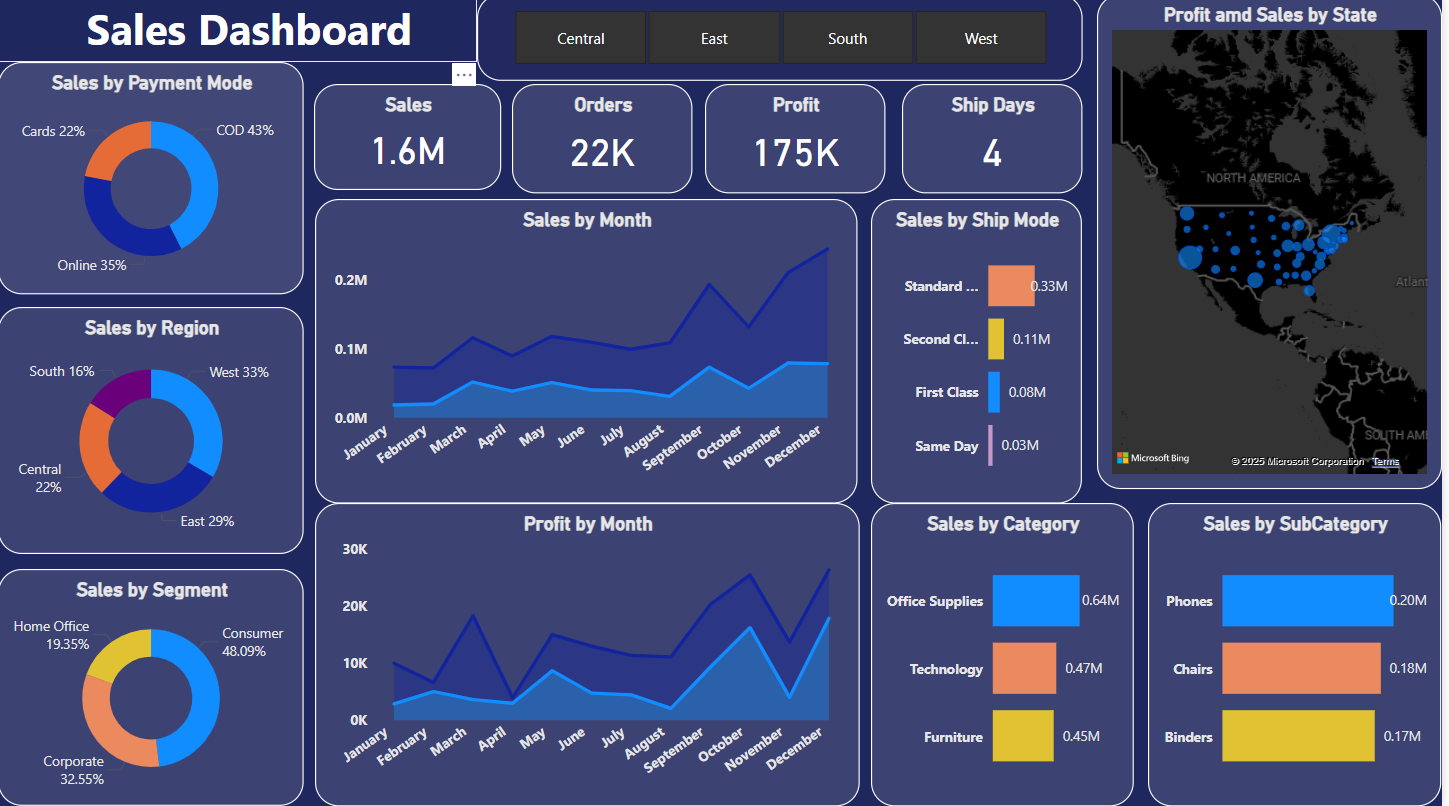

What the dashboard file says about the page in this screenshot:
{"tool":"powerbi","page":{"name":"Dashboard","canvas":[1280,720],"ordinal":0},"visuals":[{"type":"clusteredBarChart","title":"Sales by Category","fields":{"Category":["Sheet1.Category"],"Y":["Sum(Sheet1.Sales)"]},"box":[774.3,451.4,232.9,268.6],"z":0},{"type":"clusteredBarChart","title":"Sales by SubCategory","fields":{"Y":["Sum(Sheet1.Sales)"],"Category":["Sheet1.Sub-Category"]},"box":[1020,451.4,260,268.6],"z":1000},{"type":"stackedAreaChart","title":"Sales by Month","fields":{"Y":["Sum(Sheet1.Sales)"],"Category":["Sheet1.Order Date.Variation.Date Hierarchy.Month"],"Series":["Sheet1.Order Date.Variation.Date Hierarchy.Year"]},"box":[281.4,181.4,481.4,270],"z":2000},{"type":"stackedAreaChart","title":"Profit by Month","fields":{"Category":["Sheet1.Order Date.Variation.Date Hierarchy.Month"],"Series":["Sheet1.Order Date.Variation.Date Hierarchy.Year"],"Y":["Sum(Sheet1.Profit)"]},"box":[281.4,451.4,482.9,268.6],"z":3000},{"type":"map","title":" Profit amd Sales by State","fields":{"Category":["Sheet1.State"],"Size":["Sum(Sheet1.Sales)"]},"box":[974.3,0,305.7,438.6],"z":4000},{"type":"clusteredBarChart","title":"Sales by Ship Mode","fields":{"Y":["Sum(Sheet1.Sales)"],"Category":["Sheet1.Ship Mode"]},"box":[774.3,181.4,187.1,270],"z":5000},{"type":"donutChart","title":"Sales by Segment","fields":{"Category":["Sheet1.Segment"],"Y":["Sum(Sheet1.Sales)"]},"box":[0,510,271.4,210],"z":6000},{"type":"donutChart","title":"Sales by Region","fields":{"Category":["Sheet1.Region"],"Y":["Sum(Sheet1.Sales)"]},"box":[0,277.1,271.4,218.6],"z":7000},{"type":"donutChart","title":"Sales by Payment Mode","fields":{"Category":["Sheet1.Payment Mode"],"Y":["Sum(Sheet1.Sales)"]},"box":[0,60,271.4,205.7],"z":8000},{"type":"slicer","fields":{"Values":["Sheet1.Region"]},"box":[424.3,0,537.1,77.1],"z":9000},{"type":"textbox","box":[0,0,424.3,60],"z":10000},{"type":"card","title":"Sales","fields":{"Values":["Sum(Sheet1.Sales)"]},"box":[280,80,165.7,94.3],"z":11000},{"type":"card","title":"Orders","fields":{"Values":["Sum(Sheet1.Quantity)"]},"box":[455.7,80,160,97.1],"z":12000},{"type":"card","title":"Profit","fields":{"Values":["Sum(Sheet1.Profit)"]},"box":[627.1,80,160,97.1],"z":13000},{"type":"card","title":"Ship Days","fields":{"Values":["Avg(Sheet1.Average Devlivery)"]},"box":[801.4,80,160,97.1],"z":14000}]}

Visuals, with their boxes in screenshot pixels (x1, y1, x2, y2), scaled from the page's 1280x720 canvas onto the 1449x806 screenshot:
"Sales by Category" clusteredBarChart: (left=877, top=505, right=1140, bottom=805)
"Sales by SubCategory" clusteredBarChart: (left=1155, top=505, right=1448, bottom=805)
"Sales by Month" stackedAreaChart: (left=319, top=203, right=864, bottom=505)
"Profit by Month" stackedAreaChart: (left=319, top=505, right=865, bottom=805)
" Profit amd Sales by State" map: (left=1103, top=0, right=1448, bottom=491)
"Sales by Ship Mode" clusteredBarChart: (left=877, top=203, right=1088, bottom=505)
"Sales by Segment" donutChart: (left=0, top=571, right=307, bottom=805)
"Sales by Region" donutChart: (left=0, top=310, right=307, bottom=555)
"Sales by Payment Mode" donutChart: (left=0, top=67, right=307, bottom=297)
slicer - Sheet1.Region: (left=480, top=0, right=1088, bottom=86)
textbox: (left=0, top=0, right=480, bottom=67)
"Sales" card: (left=317, top=90, right=505, bottom=195)
"Orders" card: (left=516, top=90, right=697, bottom=198)
"Profit" card: (left=710, top=90, right=891, bottom=198)
"Ship Days" card: (left=907, top=90, right=1088, bottom=198)
